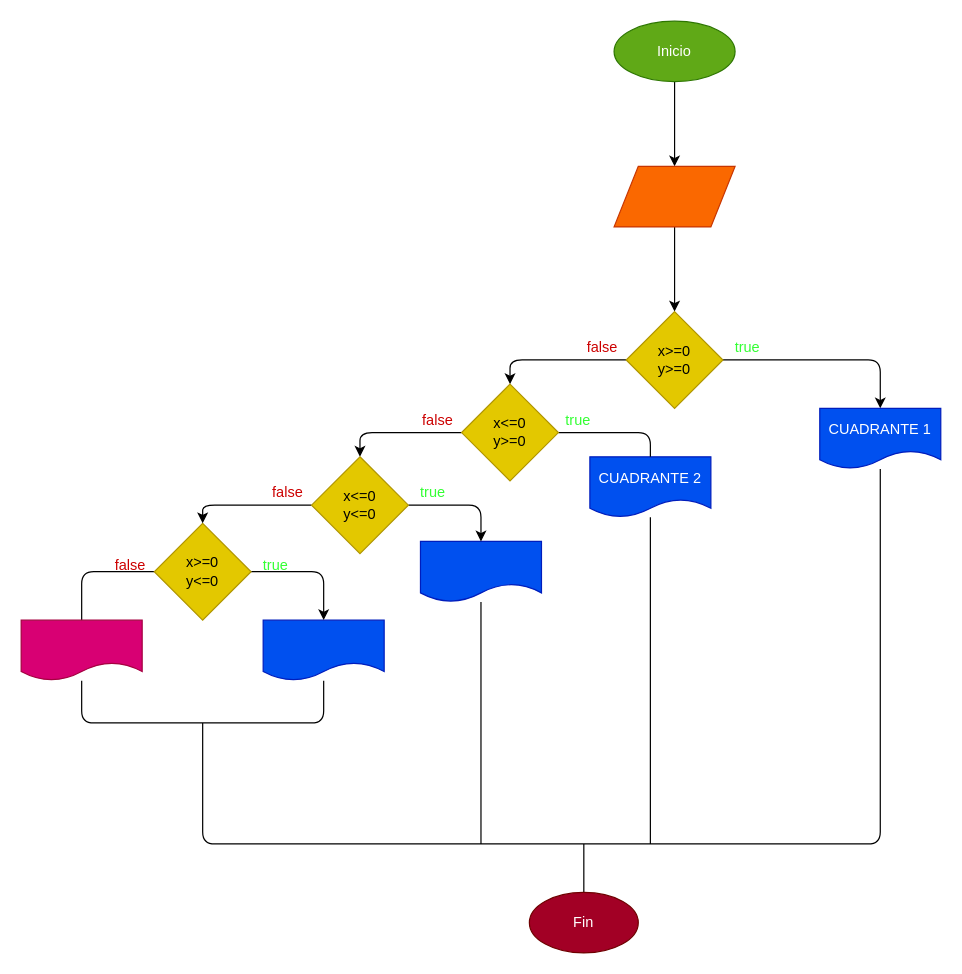
This 962x974 diagram has some shape labels left out. The centre of each missing label's shape, as x and y in pixels:
"CUADRANTE 3" goes at [480,571].
"CUADRANTE 4" goes at [323,650].
"NO EXISTE ESA COORDENADA" goes at [81,650].
"x,y" goes at [674,196].
